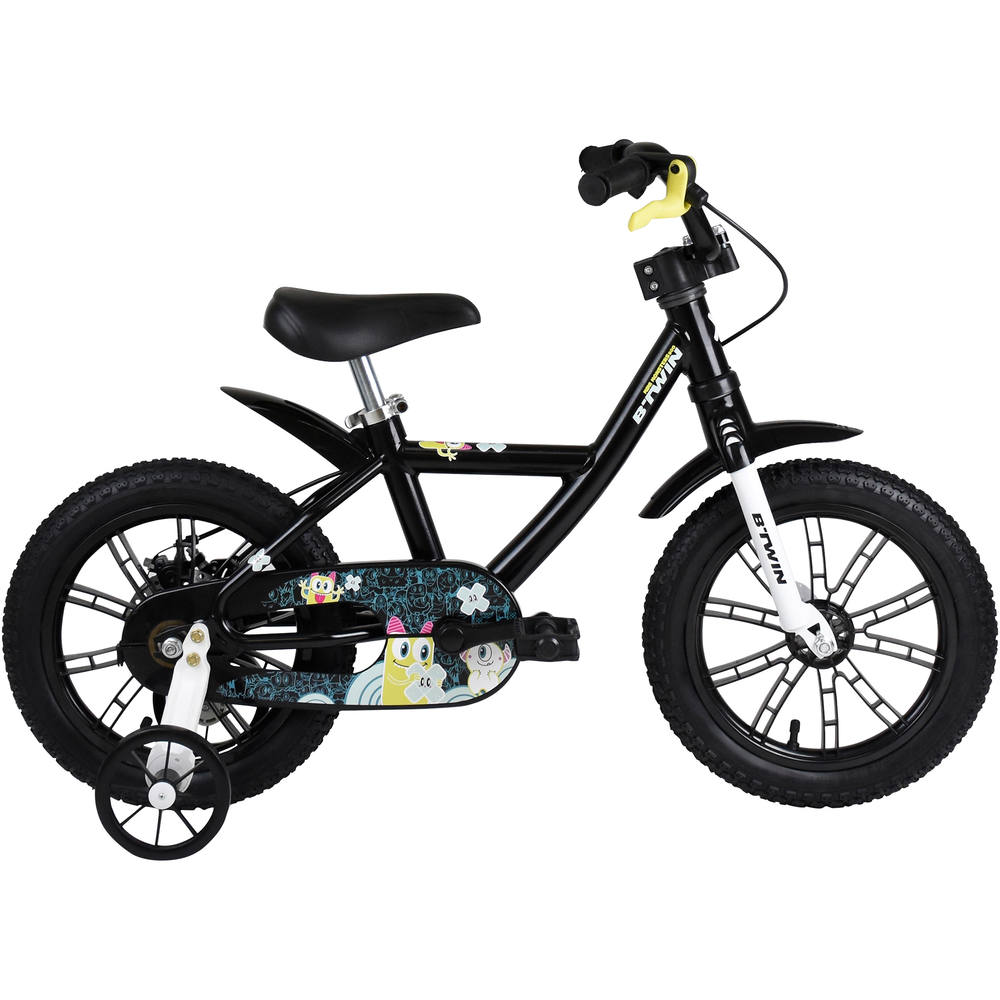RoadBike: (398, 592, 995, 842)
